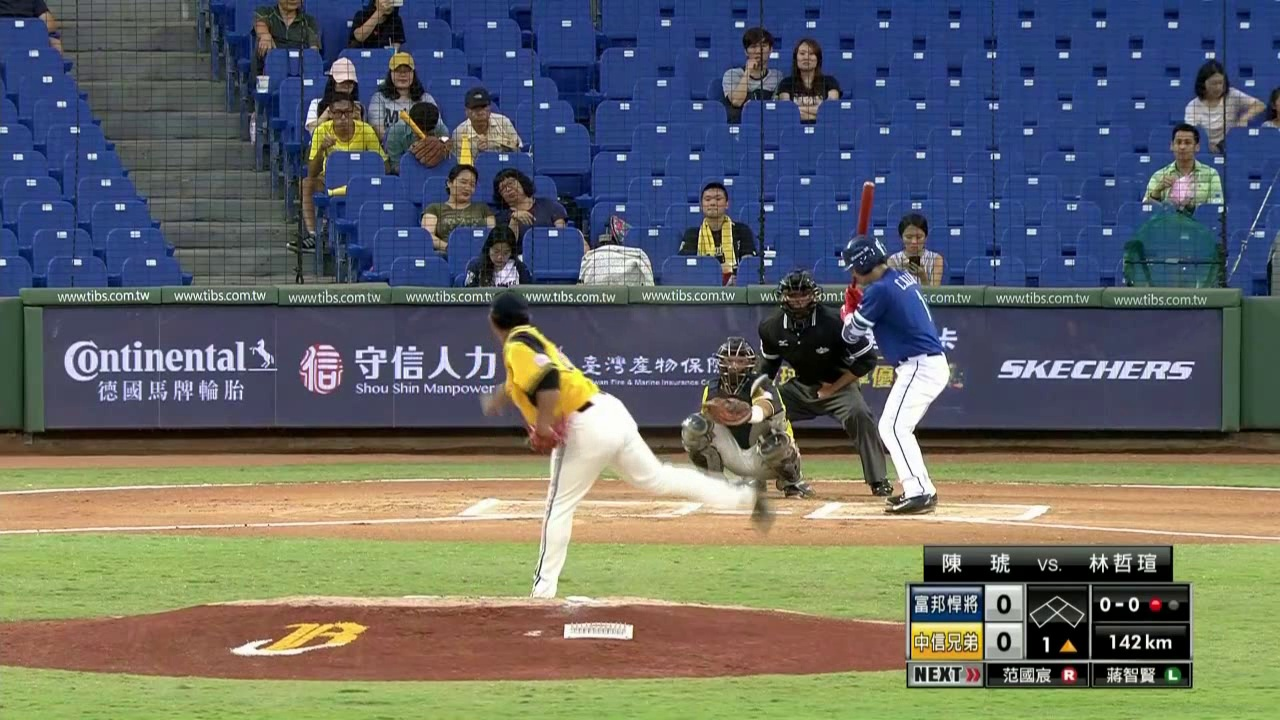base: (1025, 587, 1089, 632)
bat: (850, 185, 875, 287)
out: (1145, 591, 1183, 613)
score1: (989, 588, 1019, 621)
score2: (991, 625, 1017, 660)
session: (1029, 637, 1089, 660)
speed: (1096, 625, 1187, 659)
strikeball: (1091, 588, 1145, 619)
